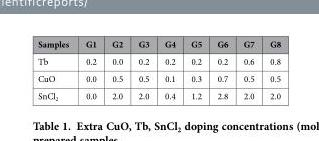table: (37, 37, 280, 102)
table column: (37, 37, 76, 102), (76, 37, 103, 102), (129, 37, 156, 102), (208, 37, 235, 102), (103, 37, 129, 102), (156, 37, 182, 102), (182, 37, 208, 102), (235, 37, 261, 102), (261, 37, 280, 102)
table column header: (37, 37, 280, 52)
table row: (37, 52, 280, 69), (37, 69, 280, 86), (37, 86, 280, 102), (37, 37, 280, 52)
